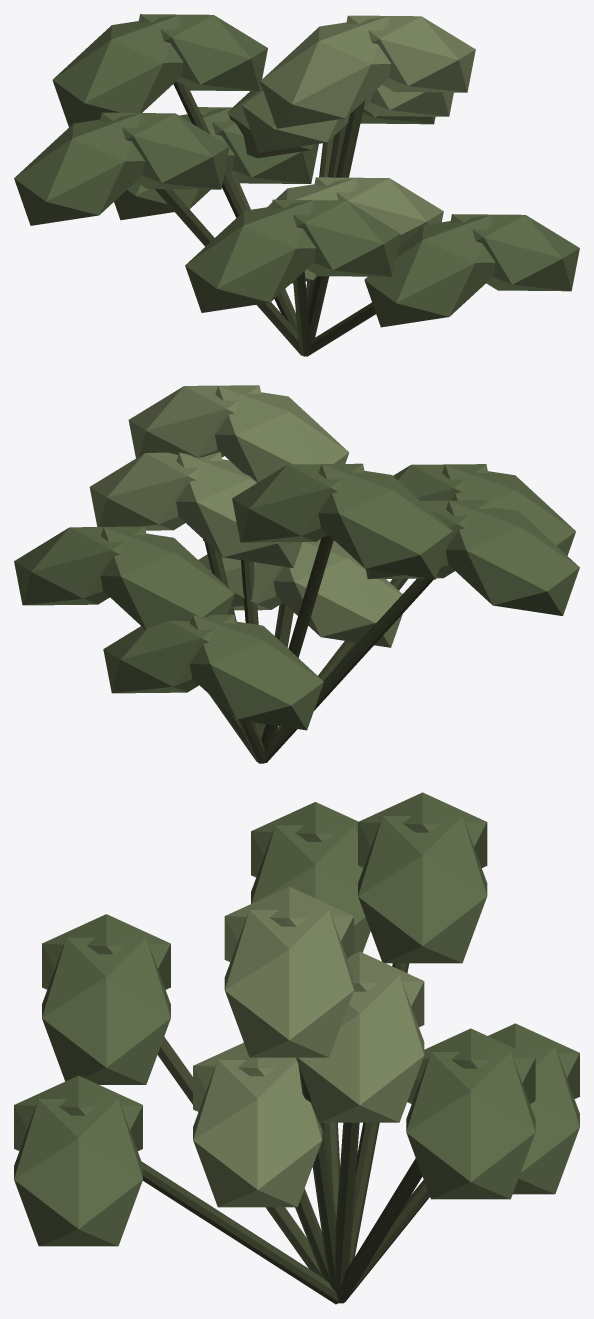
File: scrubInstances.obj
3 renders of one model, top to bottom at view 1: azimuth 30°, elevation 25°; view 2: azimuth 150°, elevation 25°; view 3: azimuth 270°, elevation 25°, orthographic. The views are drawn at different scales.
Parts seen in each view (by area): view 1: scrubInstances; view 2: scrubInstances; view 3: scrubInstances.
Part boxes in pixels (x1,y1,x2,y2): scrubInstances: (14, 14, 579, 356); scrubInstances: (14, 385, 579, 763); scrubInstances: (14, 792, 579, 1304).
Size of the model in its own units: 1.26 by 0.8597 by 1.04.
Materials: 1 (1 with a texture image).
